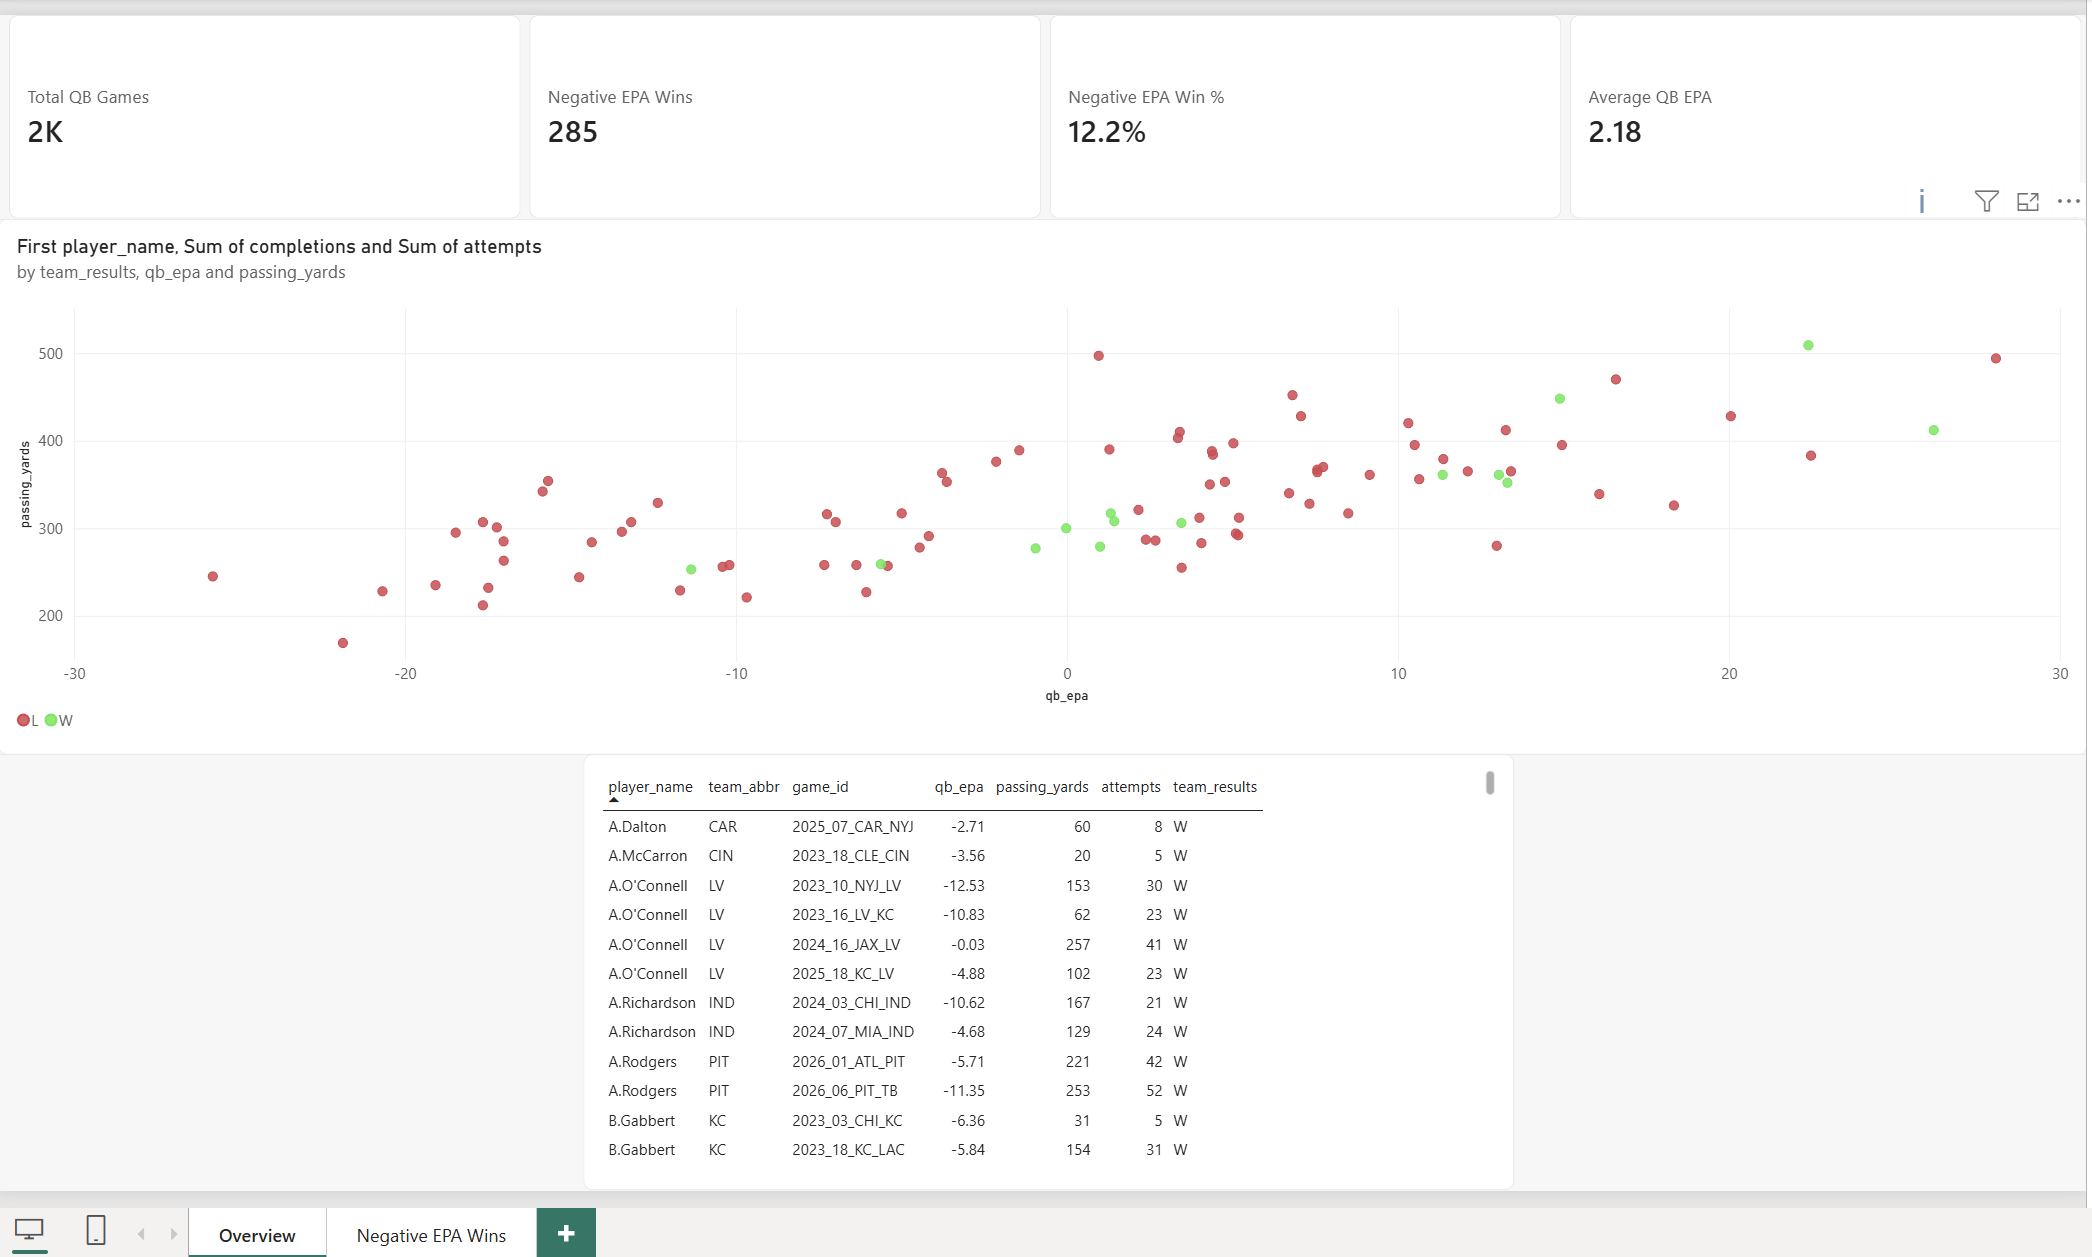

The page's visual inventory and layout, read from the dashboard file:
{"tool":"powerbi","page":{"name":"Overview","canvas":[1920,1080],"ordinal":0},"visuals":[{"type":"cardVisual","fields":{"Data":["nfl_analytics vw_qb_dashboard.Total QB Games","nfl_analytics vw_qb_dashboard.Negative EPA Wins","nfl_analytics vw_qb_dashboard.Negative EPA Win %","nfl_analytics vw_qb_dashboard.Average QB EPA"]},"box":[11.3,0,1907.8,188],"z":0},{"type":"scatterChart","fields":{"Series":["nfl_analytics vw_qb_dashboard.team_results"],"X":["nfl_analytics vw_qb_dashboard.qb_epa"],"Y":["nfl_analytics vw_qb_dashboard.passing_yards"]},"box":[1.4,188,1919.1,491.8],"z":1000},{"type":"tableEx","fields":{"Values":["nfl_analytics vw_qb_dashboard.player_name","nfl_analytics vw_qb_dashboard.team_abbr","nfl_analytics vw_qb_dashboard.game_id","nfl_analytics vw_qb_dashboard.qb_epa","nfl_analytics vw_qb_dashboard.passing_yards","nfl_analytics vw_qb_dashboard.attempts","nfl_analytics vw_qb_dashboard.team_results"]},"box":[538.3,679.2,855,399.9],"z":2000}]}

Visuals, with their boxes on the page's 1920x1080 design canvas (x1, y1, x2, y2). These are canvas units, not pixel positions in the 2092x1257 screenshot, which may show the page scaled, cropped or inside an application window:
cardVisual - nfl_analytics vw_qb_dashboard.Total QB Games x nfl_analytics vw_qb_dashboard.Negative EPA Wins: pyautogui.locateOnScreen(11, 0, 1919, 188)
scatterChart - nfl_analytics vw_qb_dashboard.team_results x nfl_analytics vw_qb_dashboard.qb_epa: pyautogui.locateOnScreen(1, 188, 1920, 680)
tableEx - nfl_analytics vw_qb_dashboard.player_name x nfl_analytics vw_qb_dashboard.team_abbr: pyautogui.locateOnScreen(538, 679, 1393, 1079)
